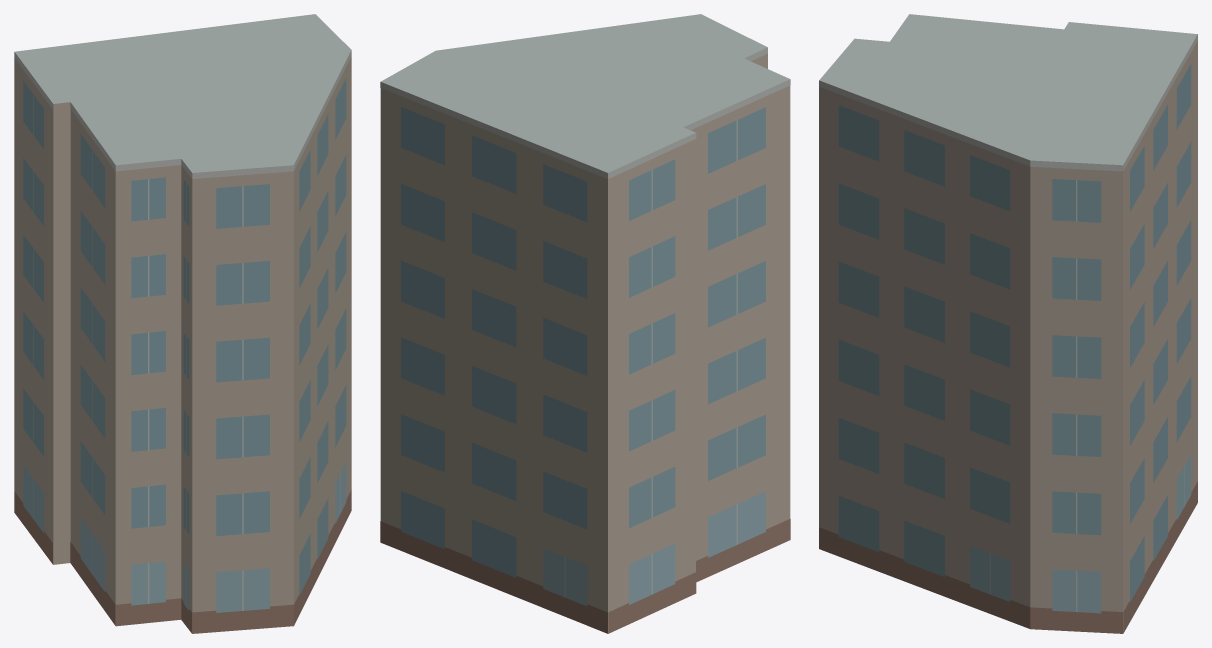
File: survey-upis-32874923.glb
3 renders of one model, left to right at view 1: azimuth 30°, elevation 25°; view 2: azimuth 150°, elevation 25°; view 3: azimuth 270°, elevation 25°, orthographic.
Parts seen in each view (by area): view 1: survey-upis-32874923.tmp; view 2: survey-upis-32874923.tmp; view 3: survey-upis-32874923.tmp.
Boxes of the visible parts, x1,y1,x2,y2 form: survey-upis-32874923.tmp: [14, 14, 351, 633]; survey-upis-32874923.tmp: [380, 14, 790, 633]; survey-upis-32874923.tmp: [819, 14, 1197, 633].
Bounding box in the file's own units: 12.68 × 18.3 × 13.41.
